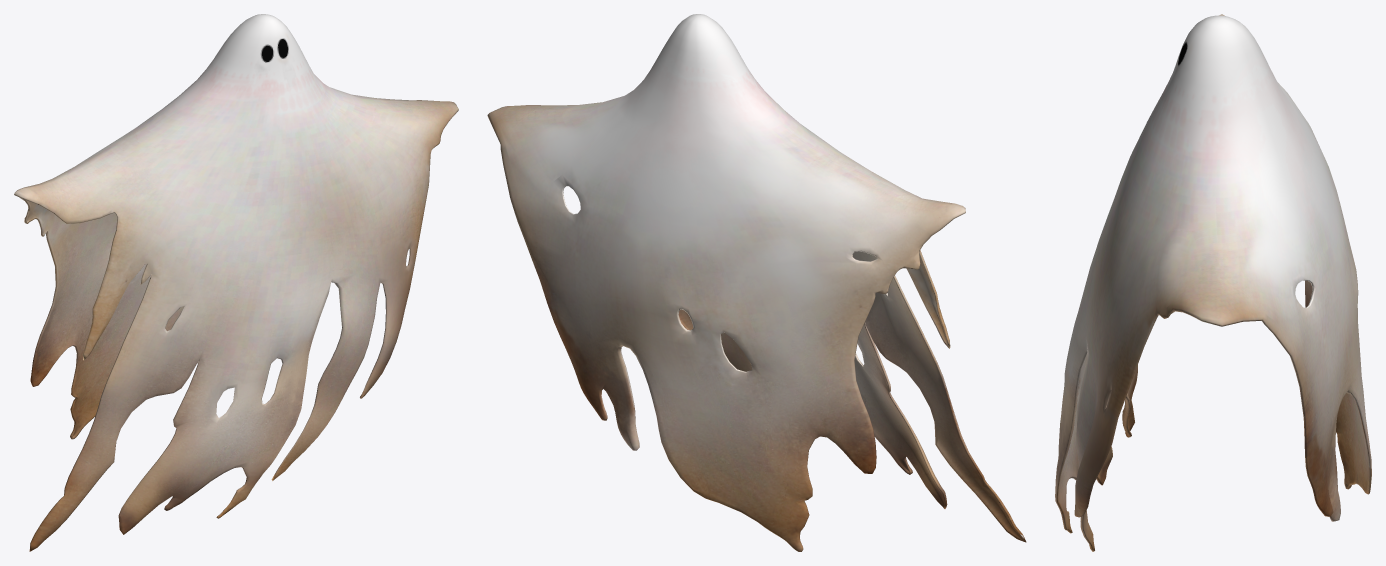
The model's file is spök.glb.
3 renders of one model, left to right at view 1: azimuth 30°, elevation 25°; view 2: azimuth 150°, elevation 25°; view 3: azimuth 270°, elevation 25°, orthographic. The views are drawn at different scales.
Visible parts, largest first — view 1: node_id30; view 2: node_id30; view 3: node_id30.
Part boxes in pixels (x1,y1,x2,y2): node_id30: (14, 14, 458, 551); node_id30: (487, 14, 1026, 551); node_id30: (1055, 14, 1371, 551).
Size of the model in its own units: 0.512 by 0.4715 by 0.229.
Materials: 1 (1 with a texture image).
